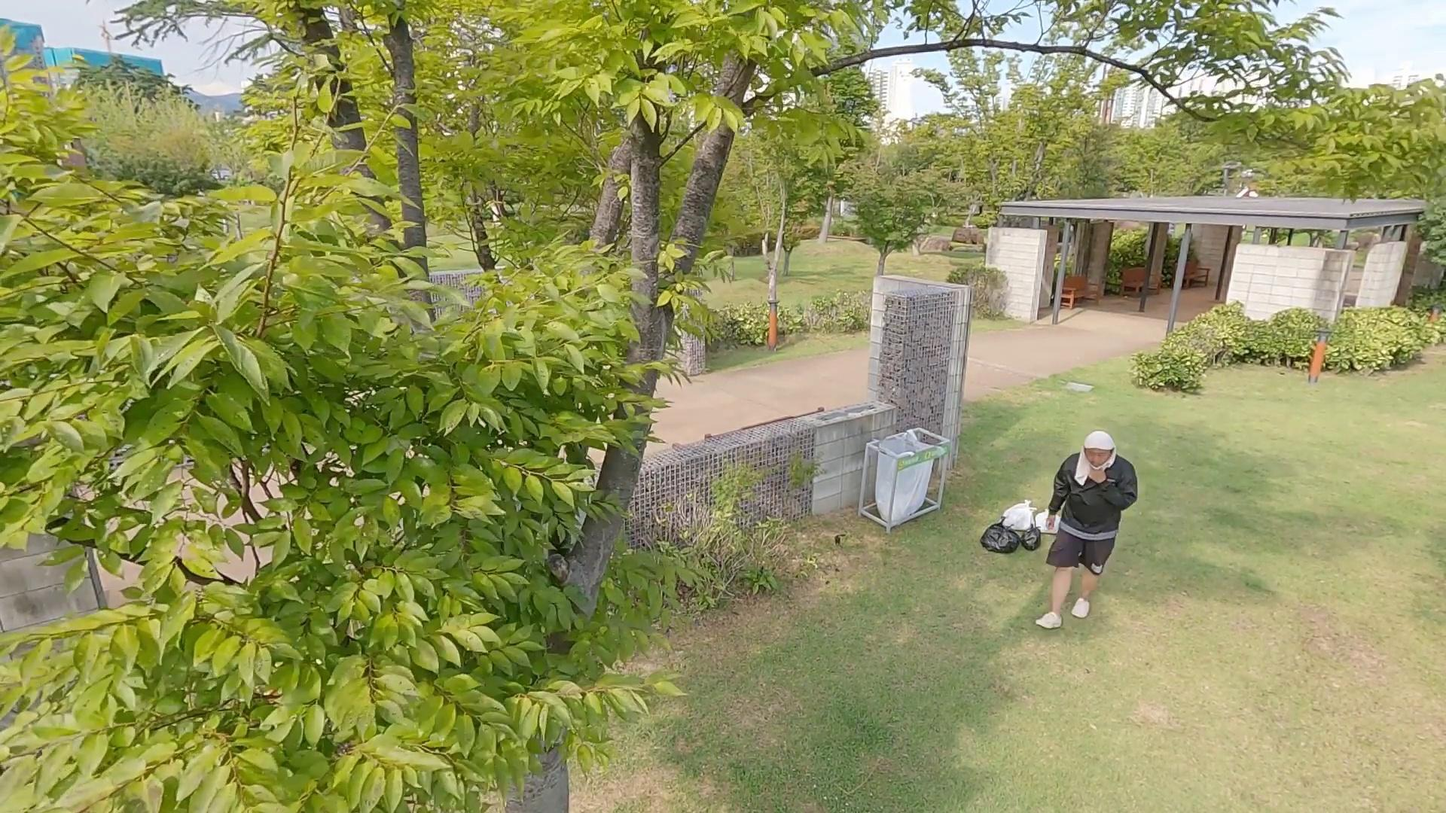person: (1036, 426, 1138, 638)
trash: (978, 517, 1021, 558), (1003, 499, 1035, 533), (1034, 509, 1064, 536), (1018, 527, 1045, 554)
